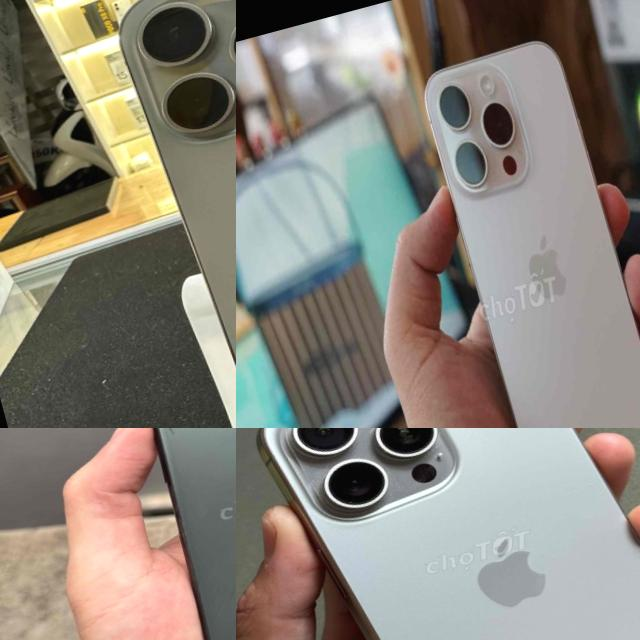gen_11: (116, 428, 236, 640)
gen_15: (398, 15, 640, 428), (236, 428, 640, 640), (122, 0, 236, 428)
